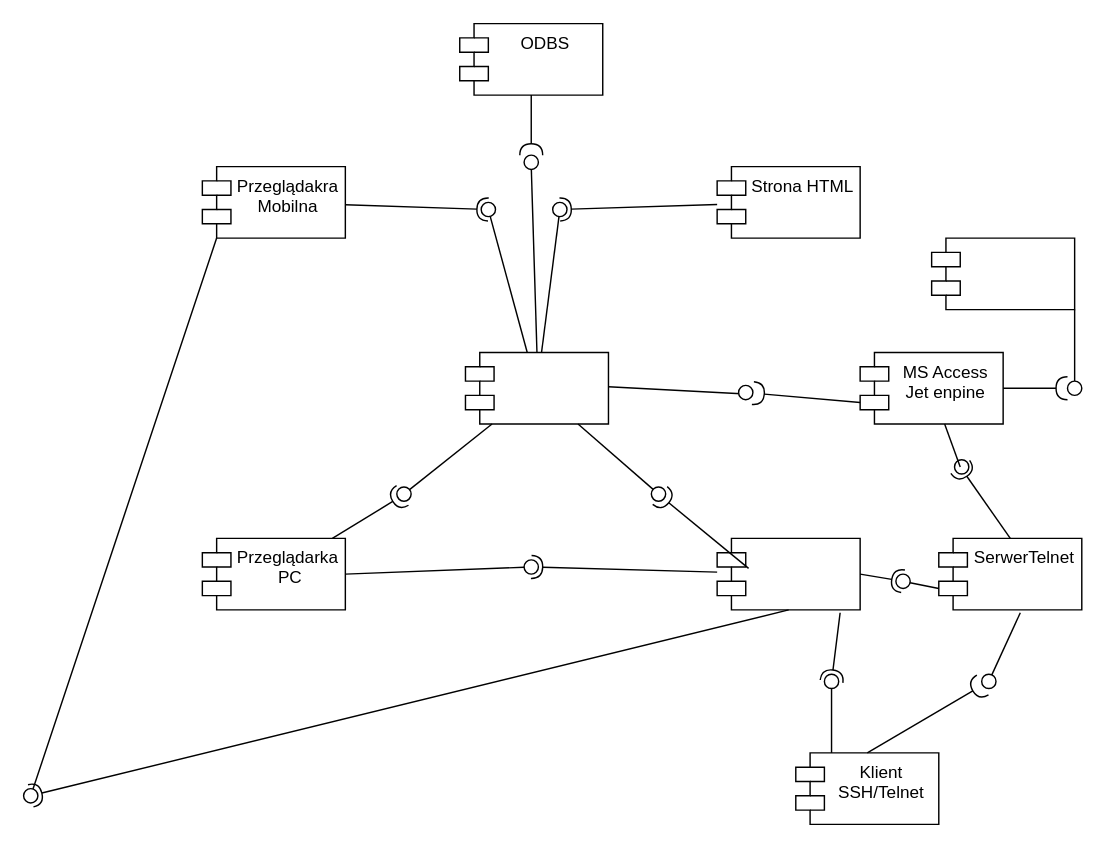
Image size: 1105x848. Some labels were removed from this diagram. The shapes that lost their labels are listed below. From the top down, each one's centre as x and y in pixels, then its label:
At point 1002,273: "Baza danych *.accessdb".
At point 536,387: "Serwer www".
At point 788,573: "SSL.dll".
